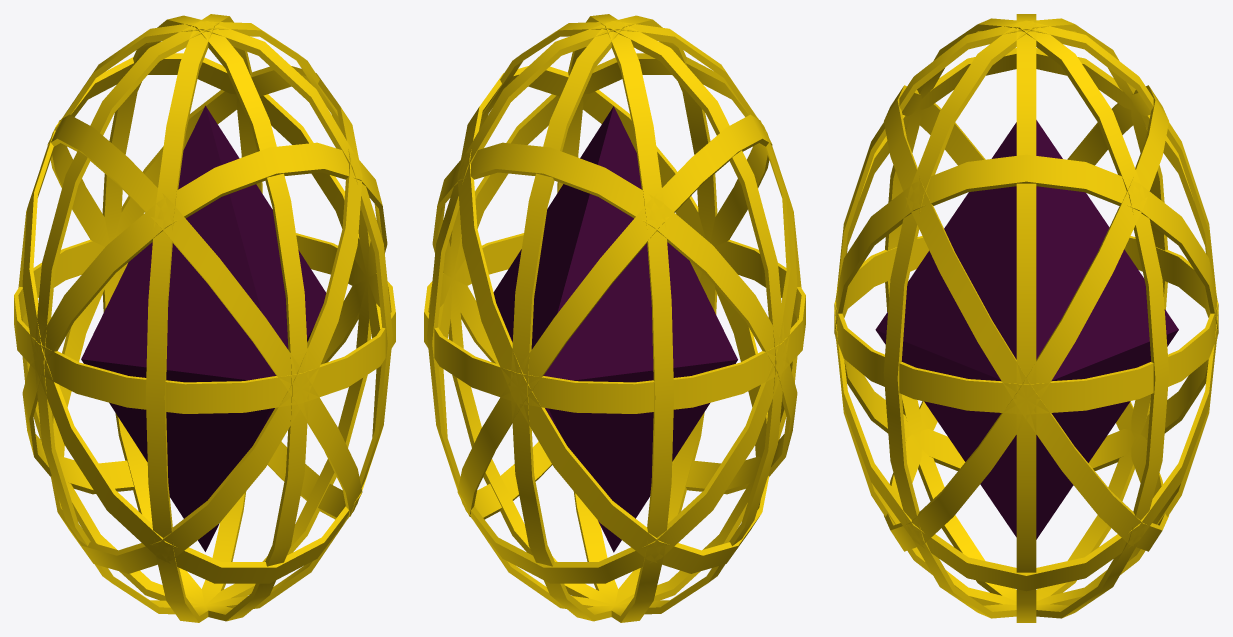
File: Orbe morado.fbx
3 renders of one model, left to right at view 1: azimuth 30°, elevation 25°; view 2: azimuth 150°, elevation 25°; view 3: azimuth 270°, elevation 25°, orthographic.
Parts seen in each view (by area): view 1: polySurface65; view 2: polySurface65; view 3: polySurface65.
Part boxes in pixels (x1,y1,x2,y2): polySurface65: (14,14,395,622); polySurface65: (424,14,805,622); polySurface65: (834,14,1218,622).
Size of the model in its own units: 0.7308 by 1.23 by 0.7308.
